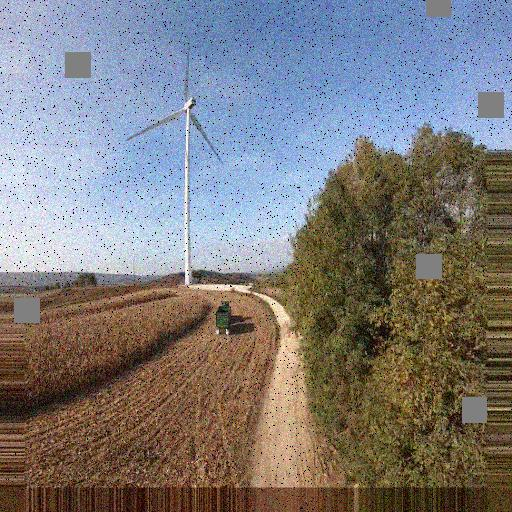wind turbine: (124, 44, 222, 283)
